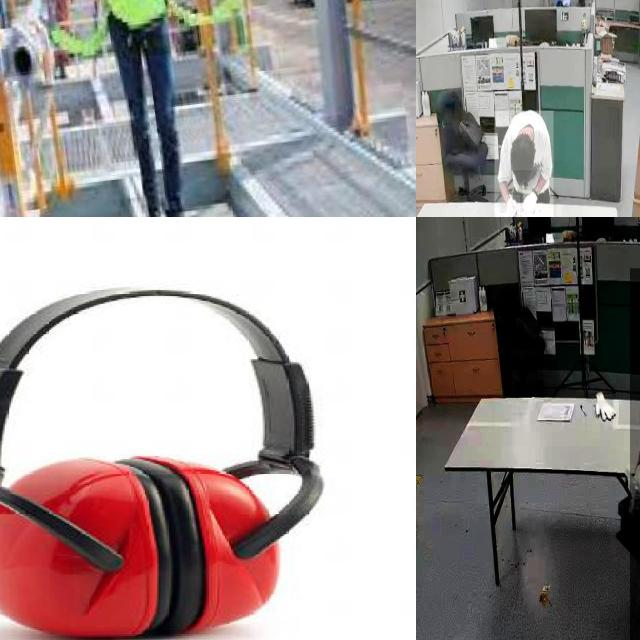Ear-protection: (0, 288, 316, 640)
Harness: (82, 0, 177, 59)
hand_glove: (626, 464, 640, 507), (522, 189, 537, 217), (503, 195, 520, 217)
head_nohelmet: (507, 132, 535, 171)
person: (494, 110, 553, 217)
